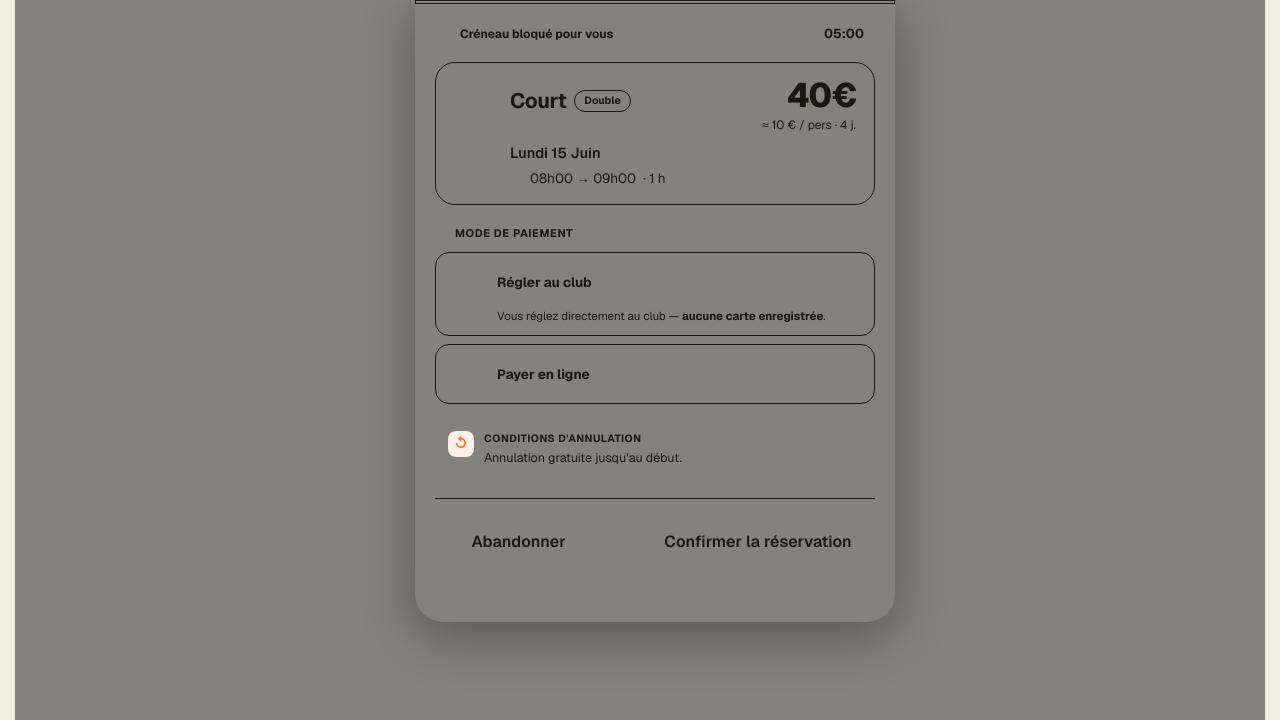
Test case: BookingModal — acceptation des CGV au paiement en ligne (Lot 3) › getClubPage rejette (PAGE_NOT_FOUND) → case CGV TOUJOURS affichée + note de repli, étape gardée
This screenshot has width=1280, height=720.
Check: the text "Créneau bloqué pour vous" is shown, box [460, 26, 613, 42]
Click the button "Payer en ligne".
click(543, 374)  # box [449, 356, 861, 392]
(page scrolled)
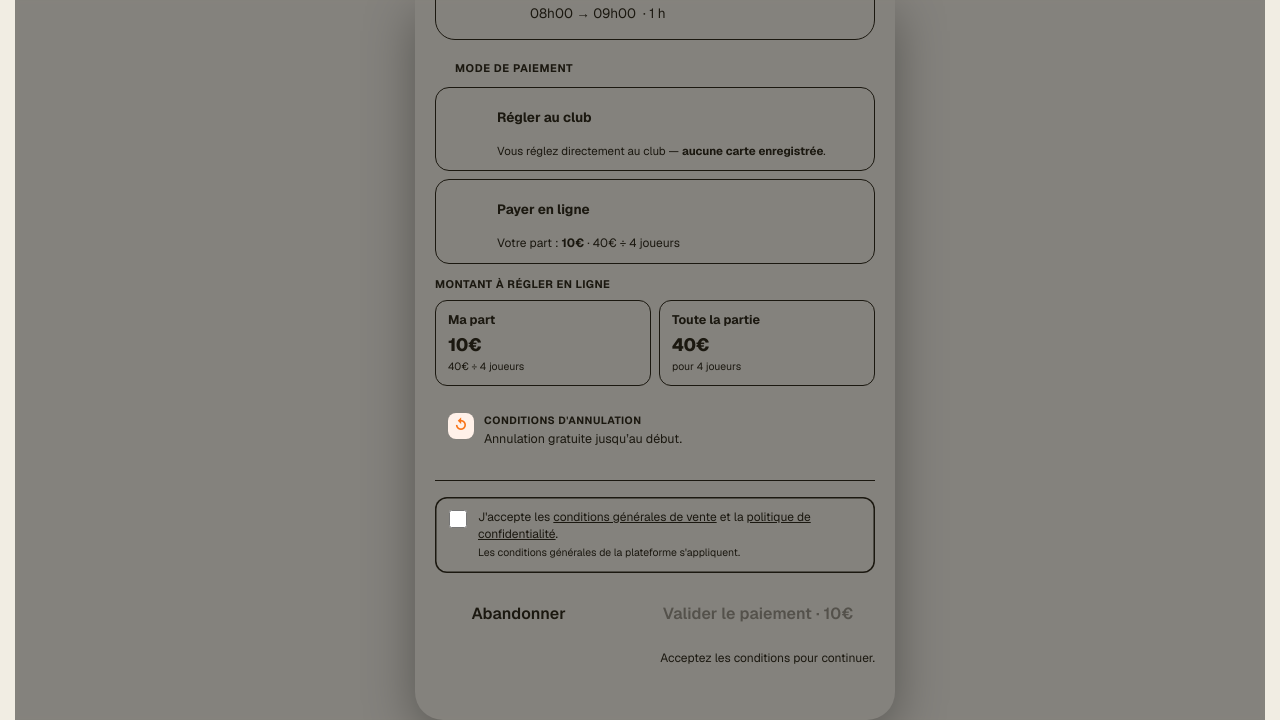
Check: the checkbox labelled "conditions générales" is shown, box [449, 510, 467, 528]
Check: the text "Les conditions générales de la plateforme s'appliquent." is shown, box [478, 545, 740, 559]
